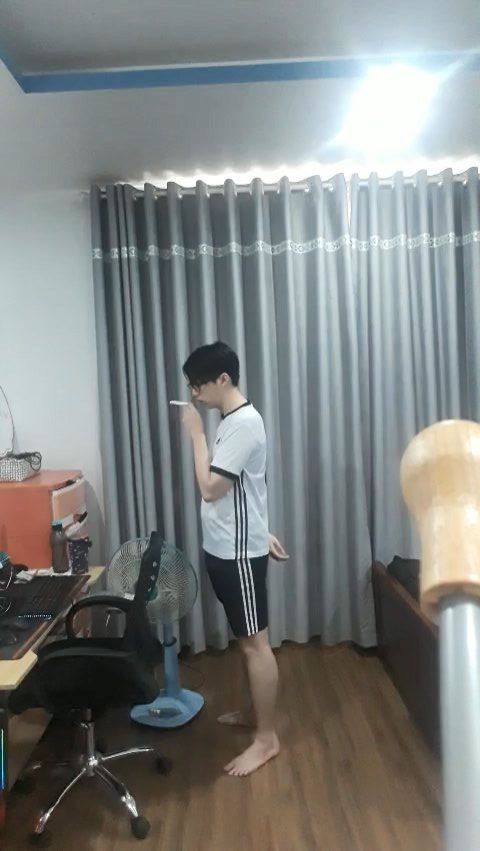cigarette: (168, 395, 190, 409)
person: (165, 336, 308, 792)
